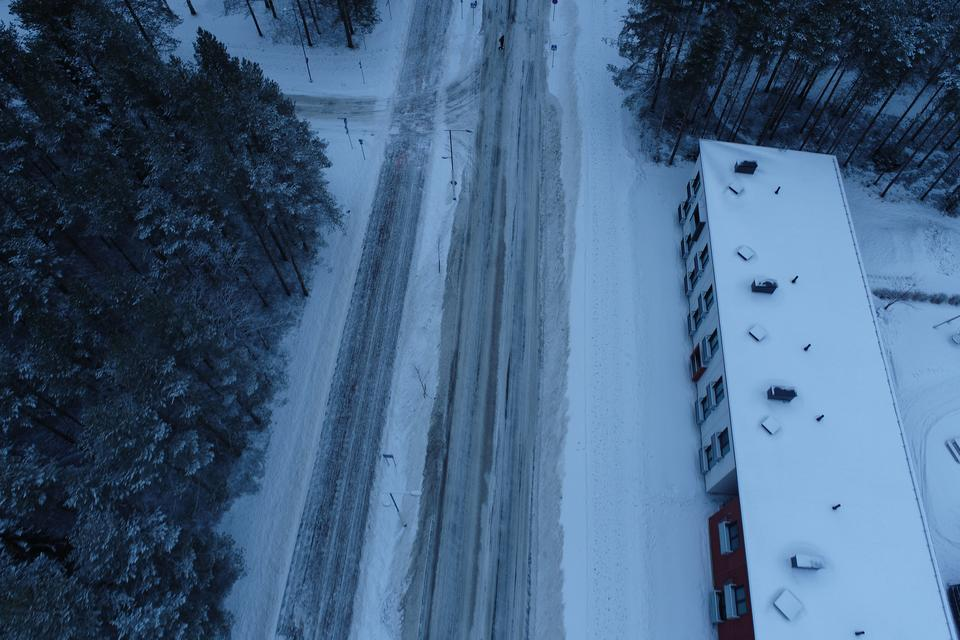intersection: (317, 50, 592, 173)
